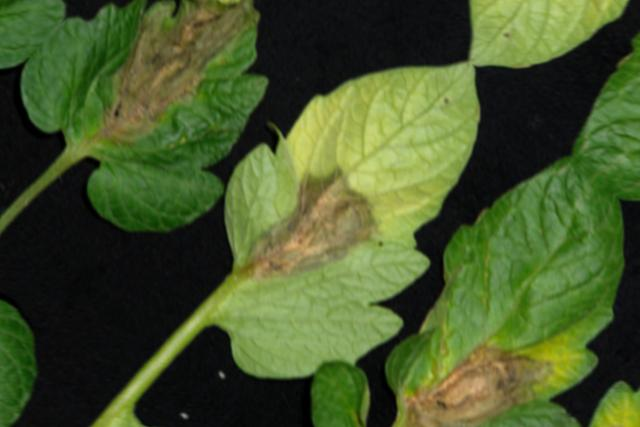Tomato mold leaf: (120, 3, 561, 427), (0, 0, 385, 304), (260, 139, 640, 427)
